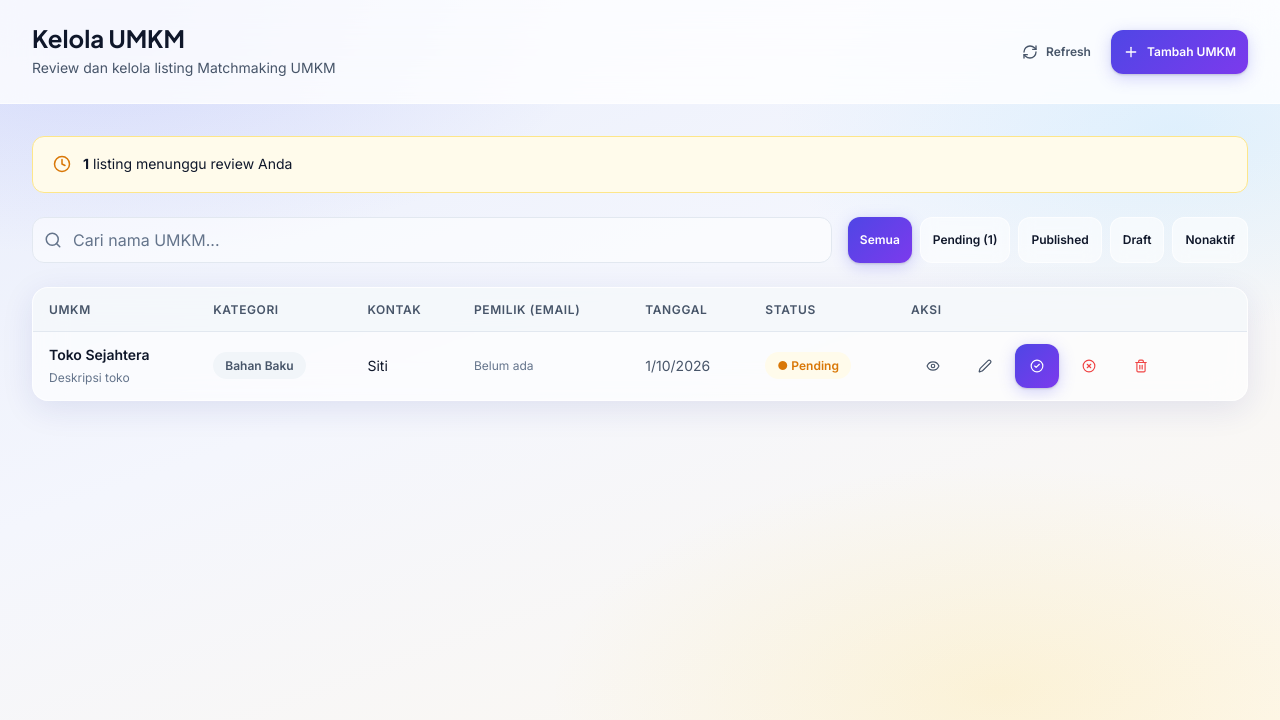
Test: Admin UMKM: mutasi dicek (tidak ada sukses palsu) › publikasi / tolak (status) › berhasil (baris terbukti) -> status Published + toast sukses; payload mereset snapshot_approved
The image size is (1280, 720).
expect the text "Toko Sejahtera" is shown: met, box [49, 346, 150, 363]
Click the button titled "Approve": {"x": 1037, "y": 366} [1015, 344, 1059, 388]
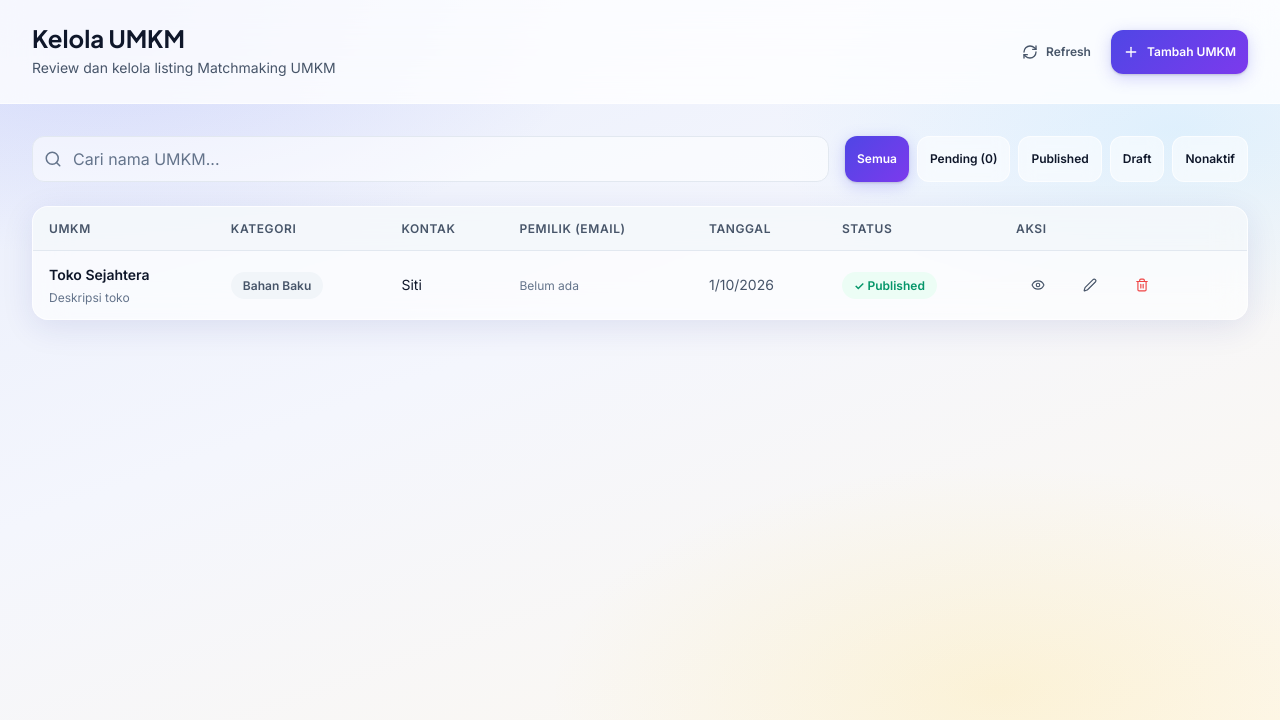
expect the text "✓ Published" is shown: met, box [842, 272, 937, 299]
